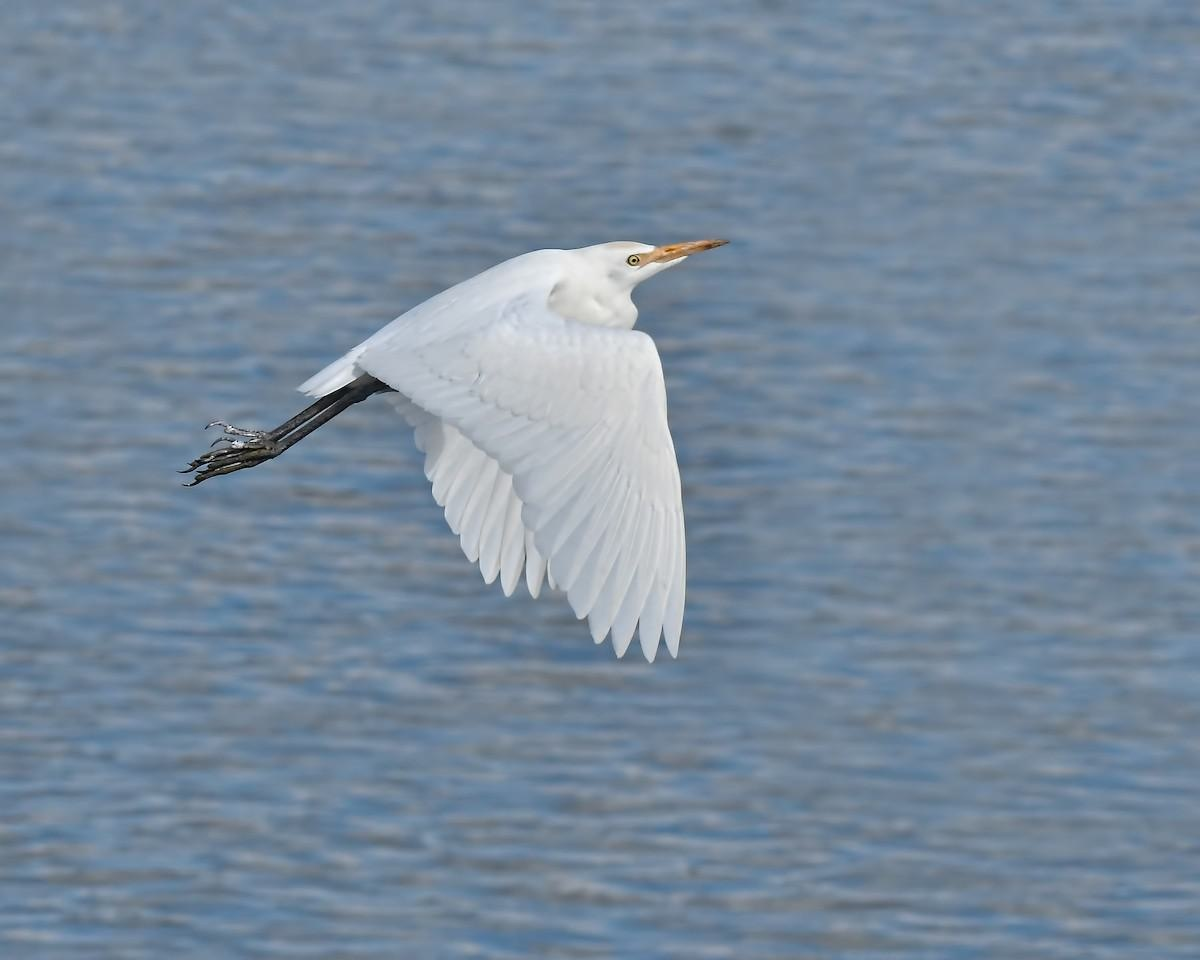egret: (149, 212, 779, 658)
